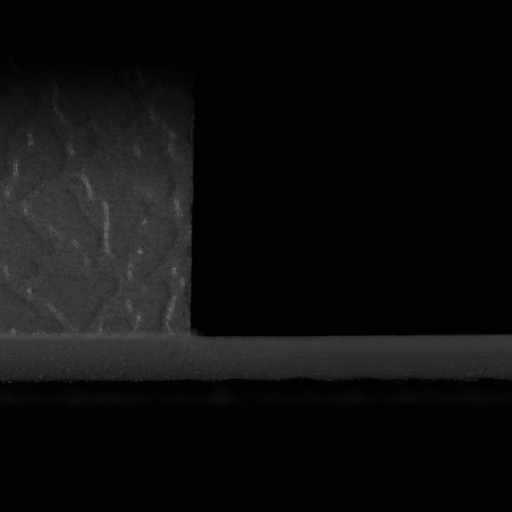changdai: (184, 332, 511, 384)
